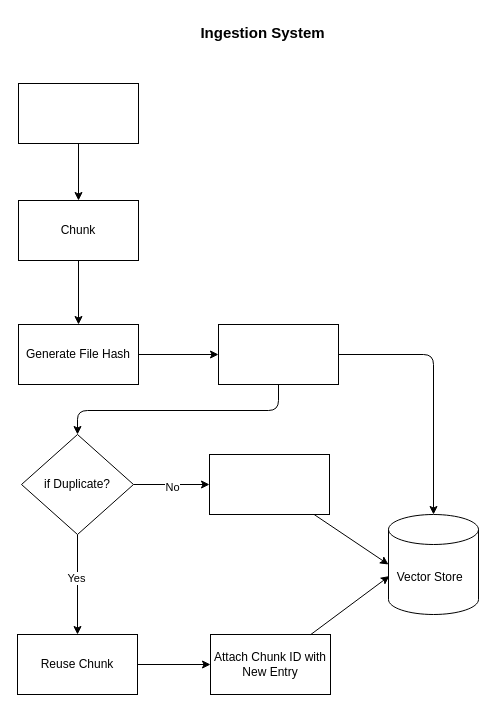
The diagram is 496 pixels wide and 712 high, and some of its shapes have lost their labels. Here are the shapes that lost their labels. From the top down, the centre of each, then its label:
At point 78,113: "Input".
At point 278,354: "Check File Hash".
At point 269,484: "New Chunk".
